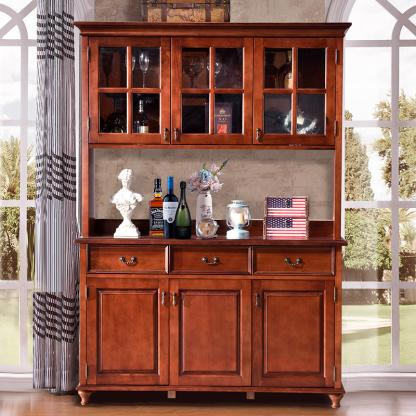Cupboard: (73, 22, 353, 407)
Curtains: (33, 0, 81, 397)
Wooden floor: (0, 392, 416, 416)
